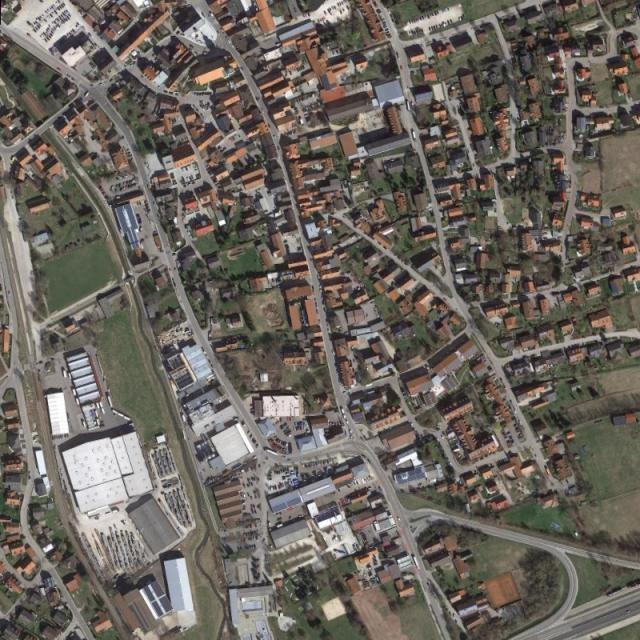vehicle: (606, 588, 623, 598), (628, 579, 640, 590), (265, 449, 278, 457), (276, 524, 284, 529)
